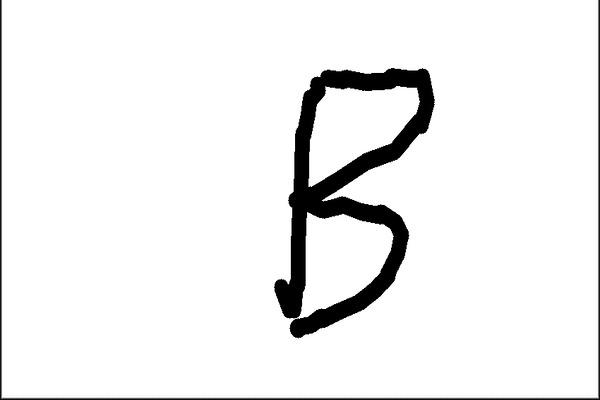B: (262, 55, 441, 344)
